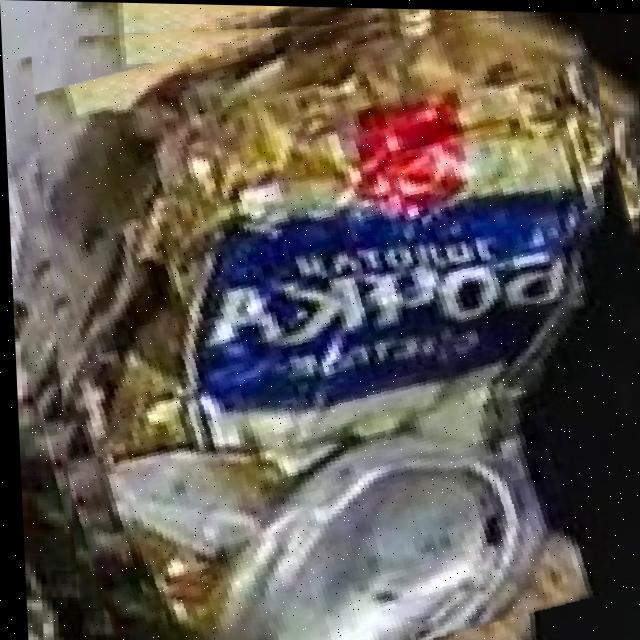can: (58, 12, 600, 640)
